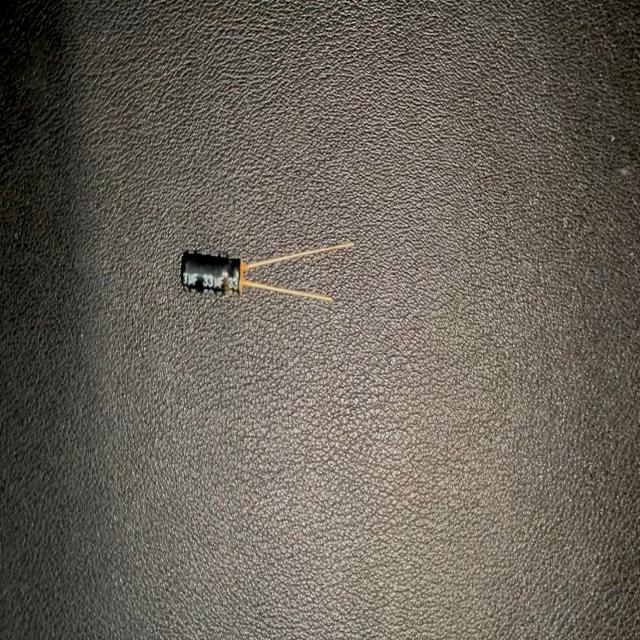defective: (221, 249, 257, 301)
